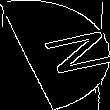N_W: (10, 28, 100, 82)
